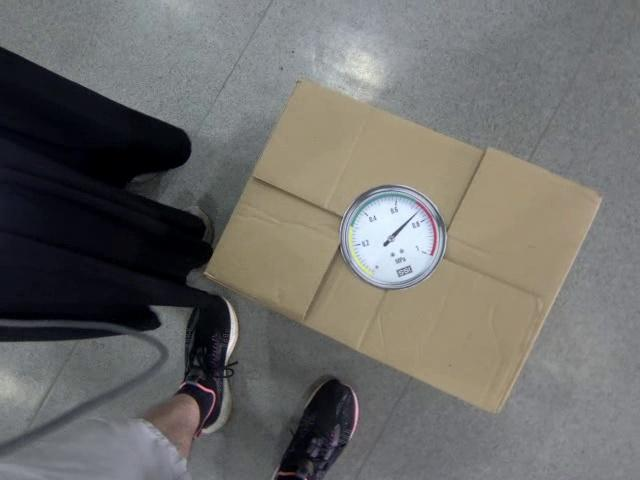Dashboard: (340, 185, 445, 290)
ssi: (392, 266, 414, 276)
